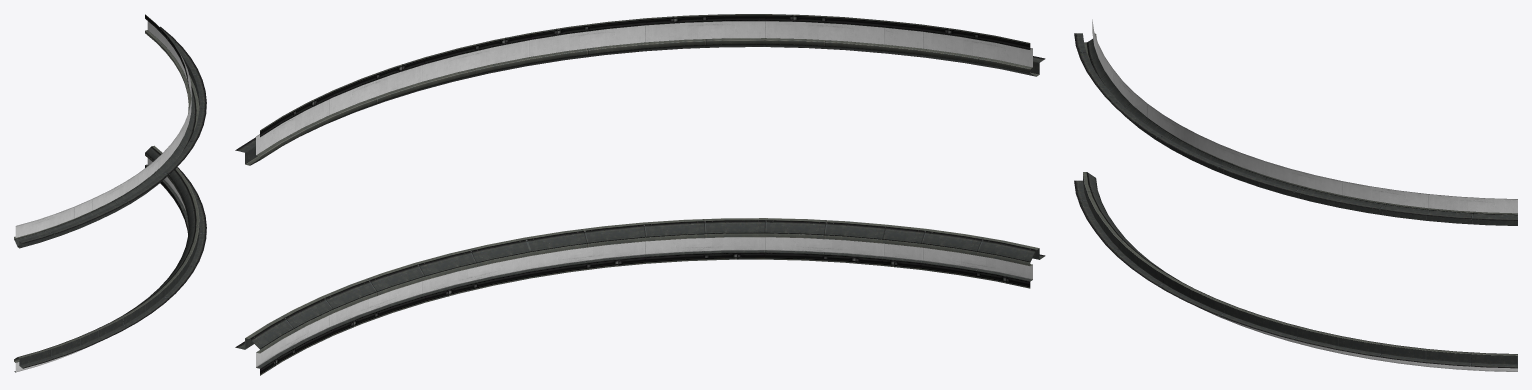
The model's file is Emb_Window_02_Frame.FBX.
3 renders of one model, left to right at view 1: azimuth 30°, elevation 25°; view 2: azimuth 150°, elevation 25°; view 3: azimuth 270°, elevation 25°, orthographic. The views are drawn at different scales.
Parts seen in each view (by area): view 1: Emb_Window_02_Frame; view 2: Emb_Window_02_Frame; view 3: Emb_Window_02_Frame.
Boxes of the visible parts, x1,y1,x2,y2 form: Emb_Window_02_Frame: (14, 14, 206, 372); Emb_Window_02_Frame: (235, 14, 1045, 375); Emb_Window_02_Frame: (1074, 19, 1517, 371).
Size of the model in its own units: 10.29 by 4.7 by 10.28.
